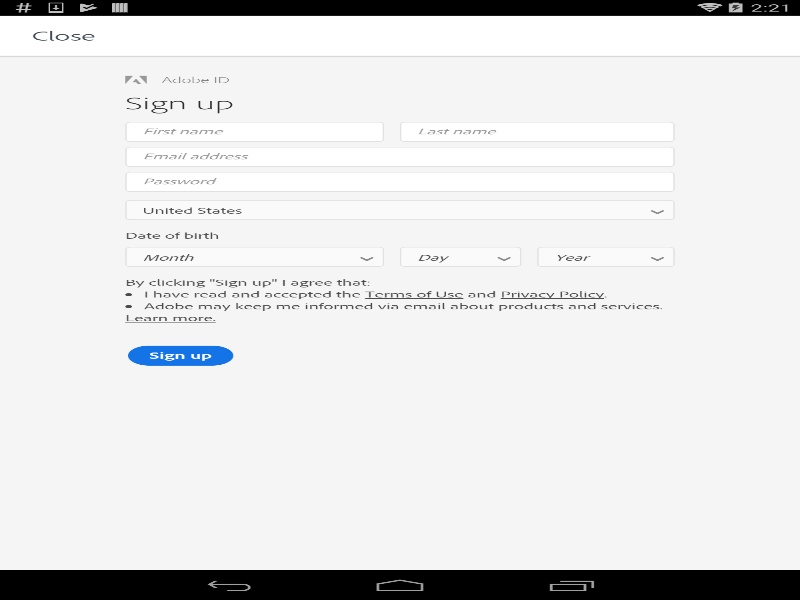Button: (125, 200, 674, 219), (125, 246, 384, 266), (537, 246, 674, 266), (400, 246, 521, 266), (128, 345, 233, 365)
Input: (125, 146, 674, 166), (125, 171, 674, 191), (400, 121, 674, 141), (125, 121, 384, 141)
